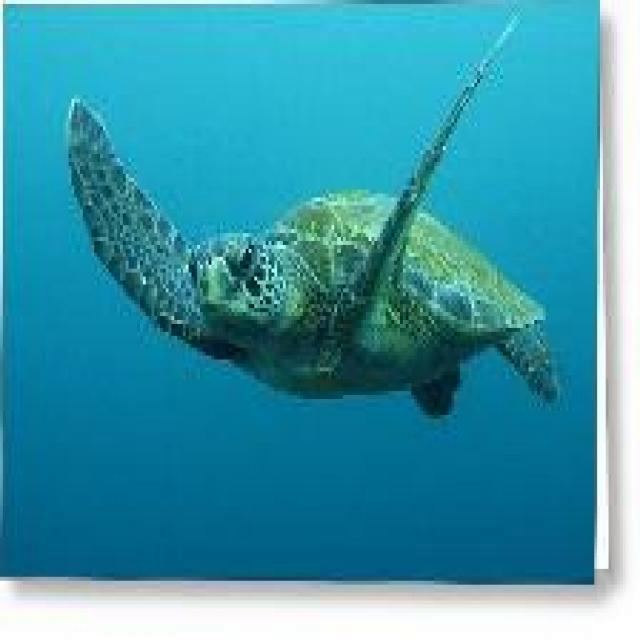Sea turtle: (62, 4, 566, 432)
